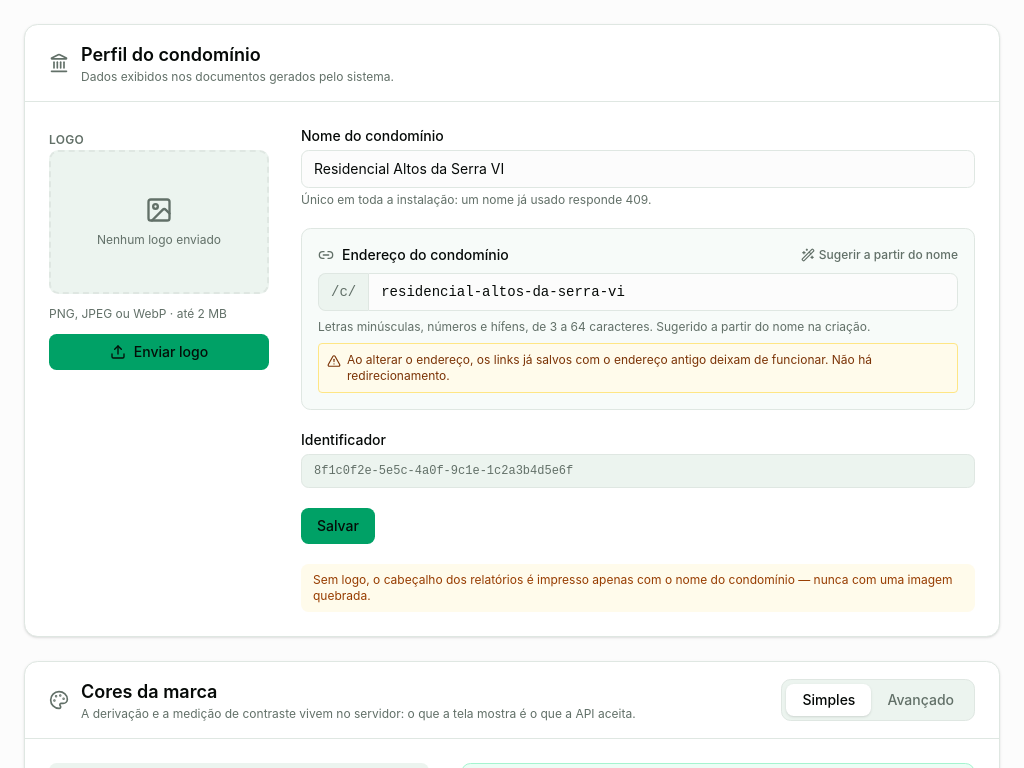
Test: TenantProfilePage — the slug (APRAS-66) › sends nothing when the confirmation is cancelled
Replace the text in the field labelled "Endereço do condomínio" with "solar-da-serra" at x=663, y=292, box [368,273,958,311]
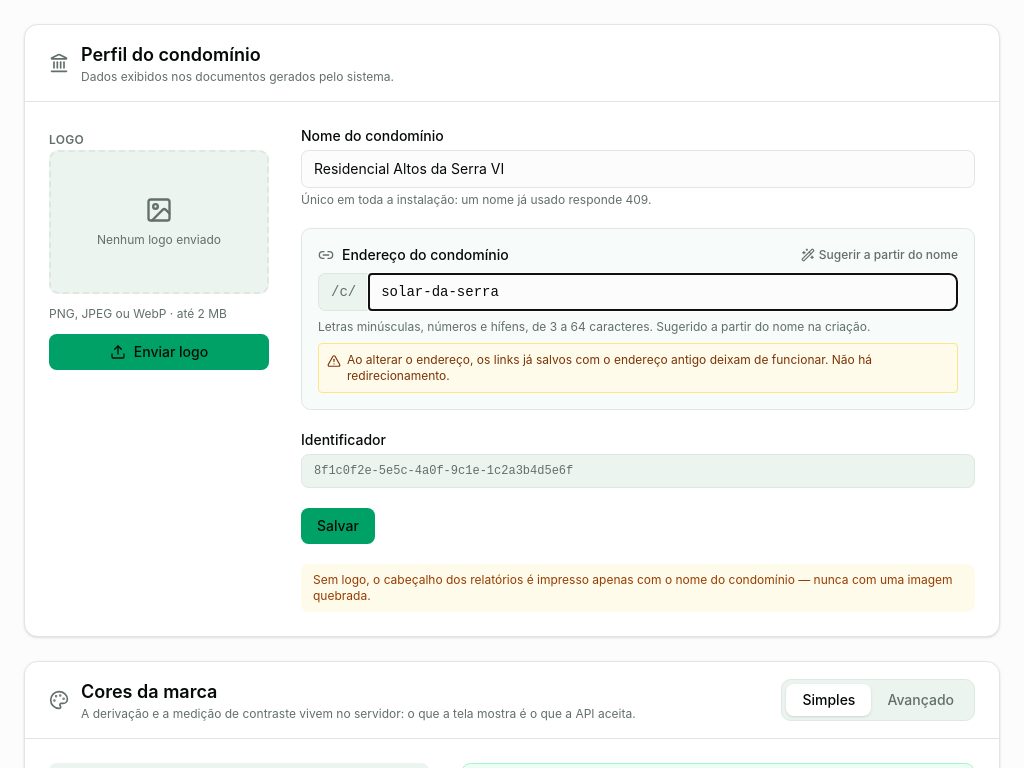
Click the button "Salvar".
click(338, 526)  # box [301,508,375,544]
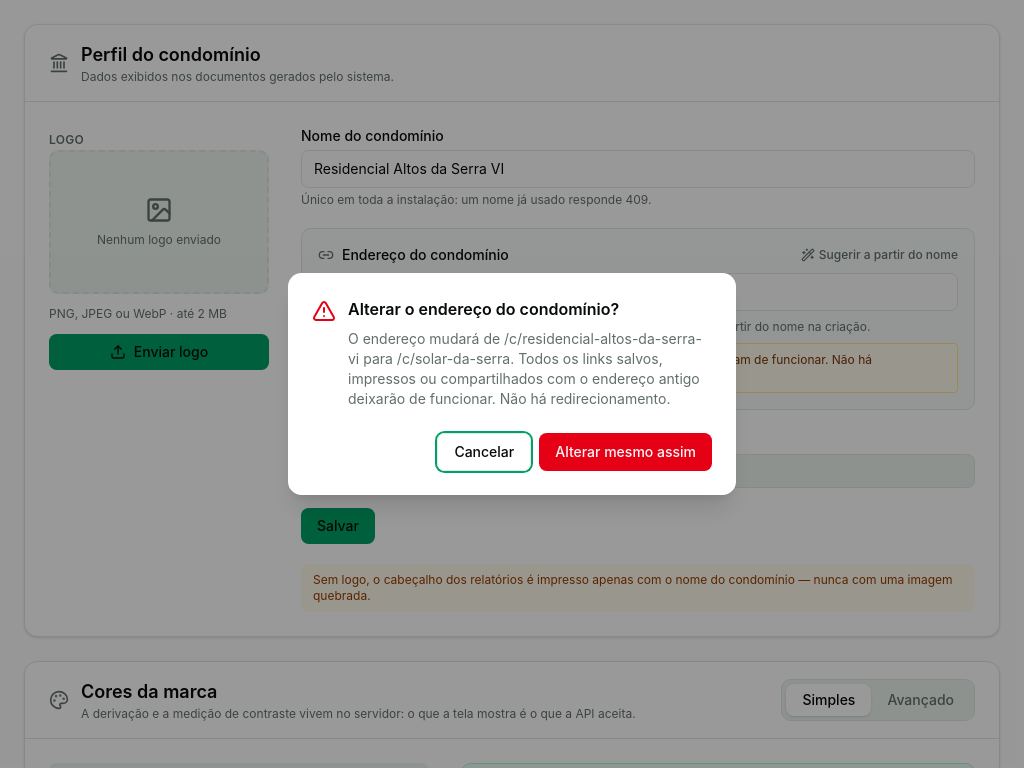
Click the button "Cancelar".
click(484, 452)  # box [437,433,531,471]
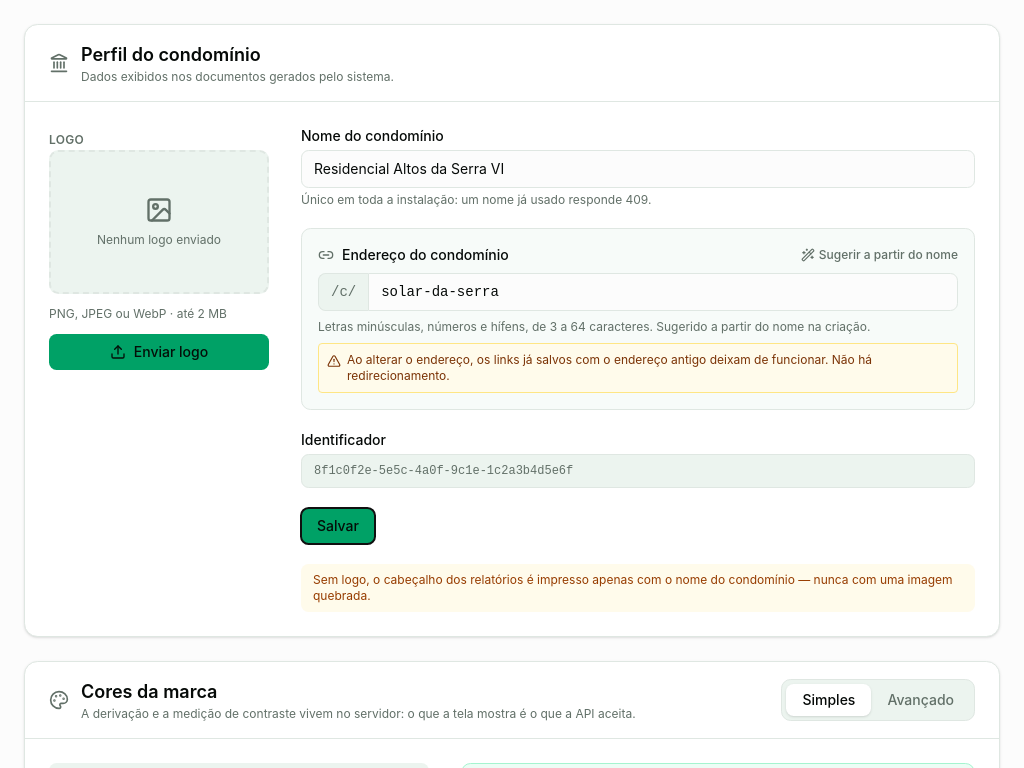
Now the heading "Alterar o endereço do condomínio?" is gone
